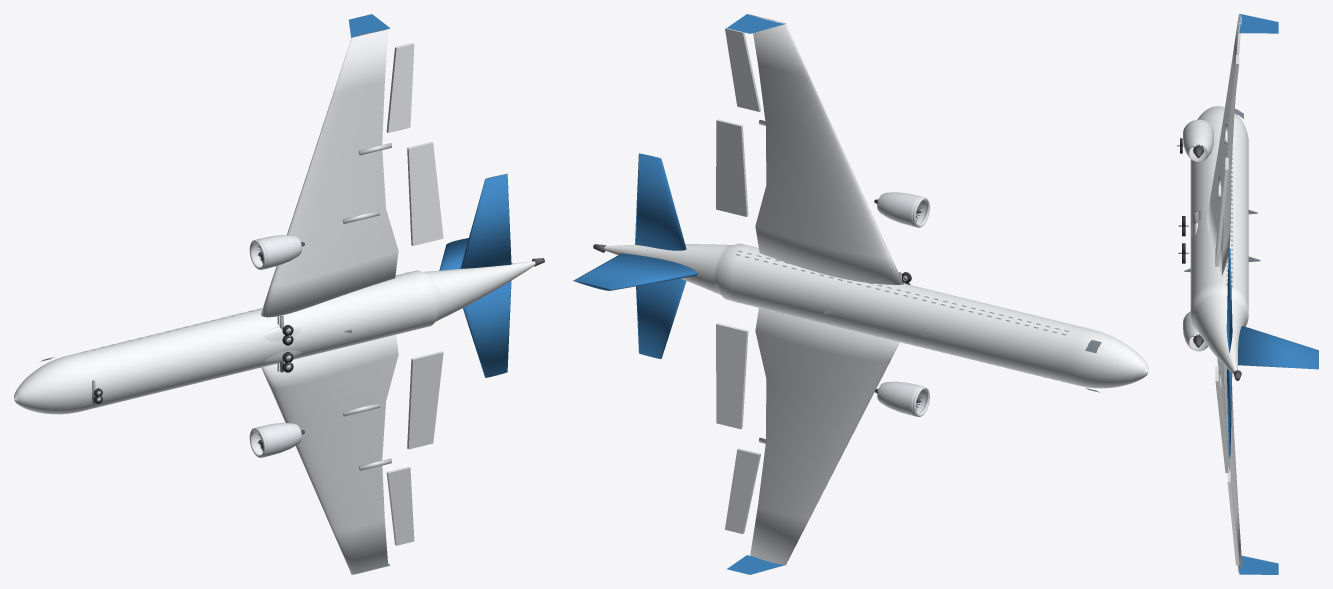
3 views of the same model, side by side, from view 1: azimuth 30°, elevation 25°; view 2: azimuth 150°, elevation 25°; view 3: azimuth 270°, elevation 25° (orthographic).
Visible parts, largest first — view 1: Fuselage, Wing_R, Wing_L, HStab_R, HStab_L, Flap_R, Flap_L, Aileron_R, Aileron_L, Nacelle_-1_0, Nacelle_1_0; view 2: Fuselage, Wing_L, Wing_R, HStab_R, Flap_L, HStab_L, Fin, Flap_R, Aileron_L, Aileron_R, Nacelle_1_0, Nacelle_-1_0; view 3: Fuselage, Wing_R, Fin, Wing_L, Nacelle_1_0, Sharklet_R, Sharklet_L, Flap_R, Flap_L, HStab_R, Aileron_L, Nacelle_-1_0 (+2 smaller).
Boxes of the visible parts, left/top/right/bottom form: Fuselage: left=14, top=261, right=535, bottom=414; Wing_R: left=260, top=29, right=398, bottom=317; Wing_L: left=261, top=334, right=398, bottom=574; HStab_R: left=460, top=173, right=511, bottom=268; HStab_L: left=463, top=280, right=511, bottom=377; Flap_R: left=407, top=141, right=443, bottom=245; Flap_L: left=407, top=351, right=443, bottom=449; Aileron_R: left=386, top=43, right=414, bottom=132; Aileron_L: left=386, top=466, right=414, bottom=545; Nacelle_-1_0: left=252, top=422, right=301, bottom=457; Nacelle_1_0: left=252, top=235, right=301, bottom=269; Fuselage: left=604, top=243, right=1148, bottom=388; Wing_L: left=750, top=308, right=899, bottom=564; Wing_R: left=750, top=14, right=903, bottom=284; HStab_R: left=635, top=153, right=686, bottom=250; Flap_L: left=716, top=323, right=748, bottom=429; HStab_L: left=636, top=278, right=686, bottom=358; Fin: left=573, top=253, right=697, bottom=290; Flap_R: left=716, top=119, right=748, bottom=216; Aileron_L: left=725, top=448, right=760, bottom=533; Aileron_R: left=725, top=27, right=761, bottom=111; Nacelle_1_0: left=877, top=192, right=926, bottom=226; Nacelle_-1_0: left=877, top=381, right=926, bottom=416; Fuselage: left=1190, top=106, right=1248, bottom=373; Wing_R: left=1207, top=14, right=1241, bottom=275; Fin: left=1238, top=326, right=1318, bottom=369; Wing_L: left=1217, top=358, right=1241, bottom=572; Nacelle_1_0: left=1183, top=120, right=1213, bottom=161; Sharklet_R: left=1239, top=14, right=1278, bottom=33; Sharklet_L: left=1239, top=555, right=1278, bottom=574; Flap_R: left=1215, top=157, right=1228, bottom=266; Flap_L: left=1215, top=366, right=1228, bottom=472; HStab_R: left=1226, top=248, right=1232, bottom=352; Aileron_L: left=1227, top=471, right=1239, bottom=565; Nacelle_-1_0: left=1183, top=312, right=1207, bottom=351.
Size of the model in its own units: 32.63 by 31 by 7.36.
